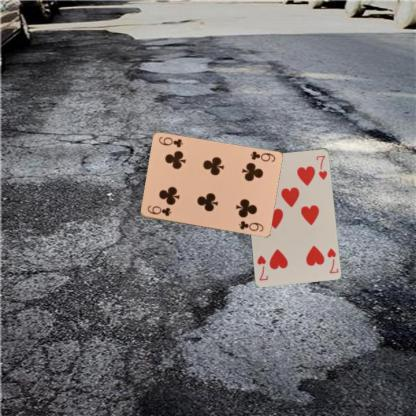6c: (247, 148, 276, 164), (145, 203, 172, 217)
7h: (325, 245, 339, 274)
